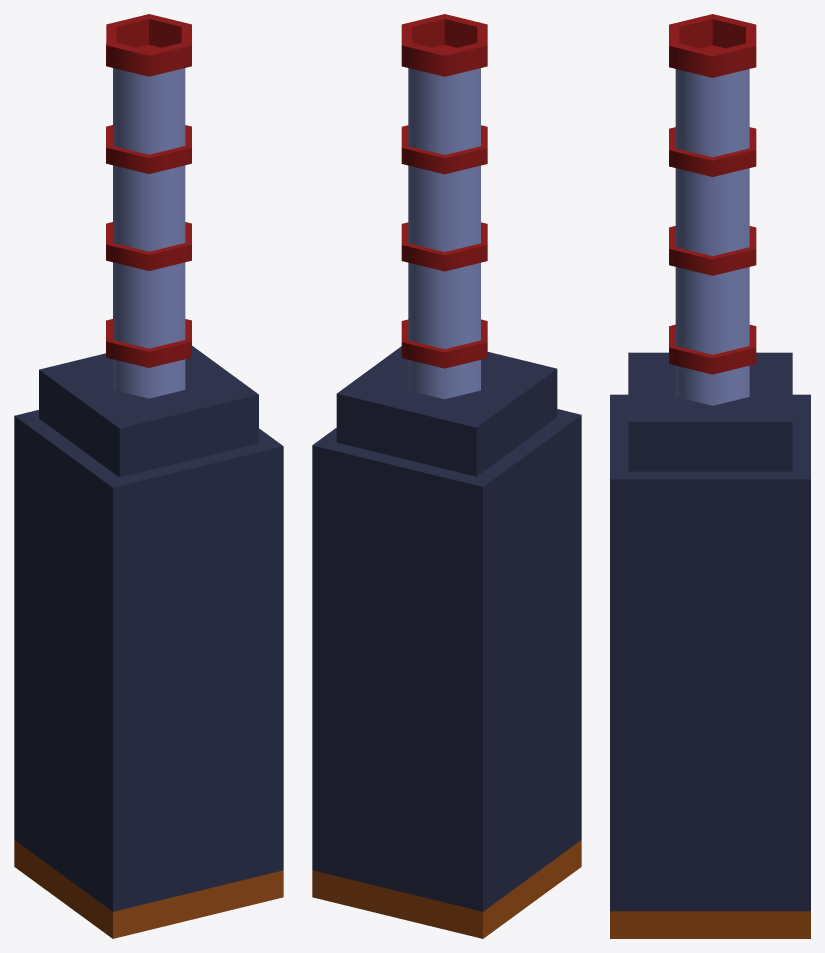
The model's file is Factory_part4-1.FBX.
The picture shows the model from 3 angles, left to right: view 1: azimuth 30°, elevation 25°; view 2: azimuth 150°, elevation 25°; view 3: azimuth 270°, elevation 25°; orthographic projection.
Visible parts, largest first — view 1: Factory_part4-1; view 2: Factory_part4-1; view 3: Factory_part4-1.
Boxes of the visible parts, bbox=[...] form: Factory_part4-1: bbox=[14, 14, 283, 938]; Factory_part4-1: bbox=[312, 14, 581, 938]; Factory_part4-1: bbox=[610, 14, 810, 938].
Bounding box in the file's own units: 70 × 332 × 70.
